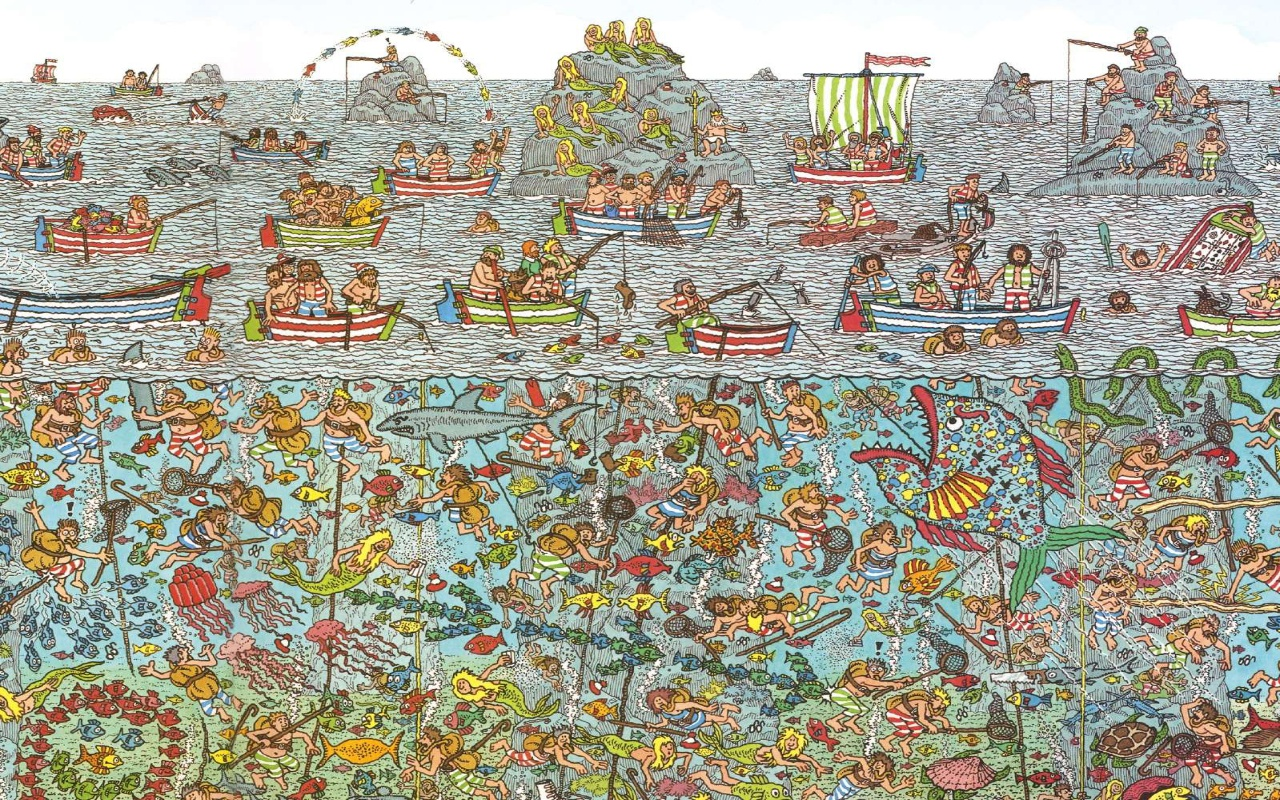waldo: (277, 253, 296, 279)
